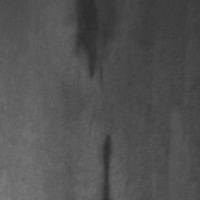inclusion: (59, 1, 104, 89), (100, 128, 125, 199)
